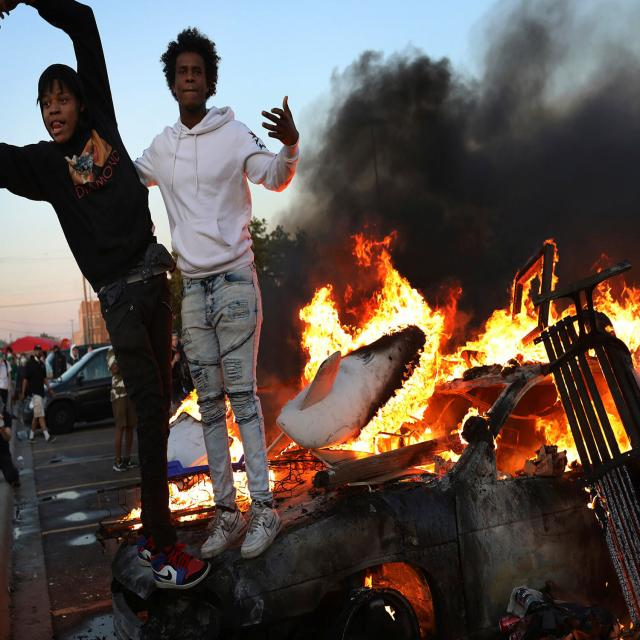fire: (421, 280, 555, 478), (554, 251, 640, 472), (322, 350, 420, 461), (344, 233, 423, 350), (299, 284, 351, 390), (378, 563, 431, 640), (266, 431, 330, 491), (224, 395, 252, 512), (169, 472, 215, 520), (514, 238, 558, 279), (582, 477, 611, 530)
